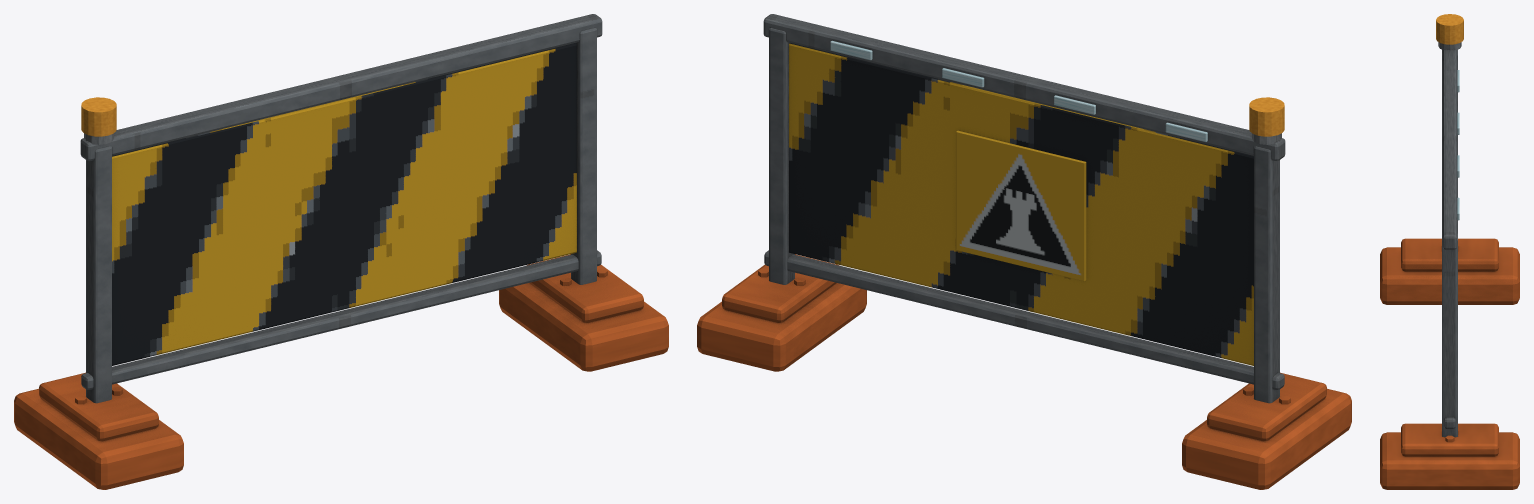
File: base_build_barrier.glb
3 views of the same model, side by side, from view 1: azimuth 30°, elevation 25°; view 2: azimuth 150°, elevation 25°; view 3: azimuth 270°, elevation 25° (orthographic). The views are drawn at different scales.
Visible parts, largest first — view 1: base_build_barrier; view 2: base_build_barrier; view 3: base_build_barrier.
Boxes of the visible parts, bbox=[...] form: base_build_barrier: bbox=[14, 14, 668, 489]; base_build_barrier: bbox=[697, 14, 1351, 489]; base_build_barrier: bbox=[1380, 14, 1519, 489].
Size of the model in its own units: 2.22 by 1.28 by 0.6.
Materials: 6 (6 with a texture image).
